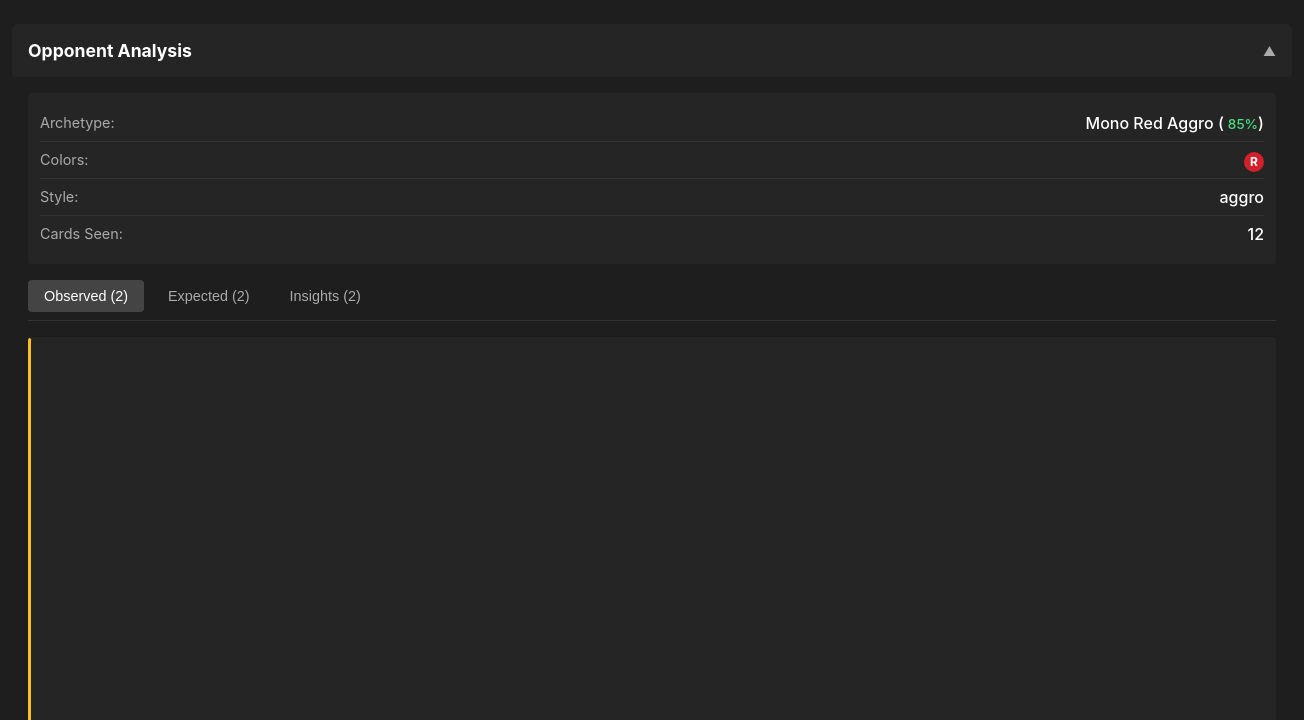
it: OpponentAnalysisPanel › switches to insights tab when clicked
Click the tab "Insights (2)" at (325, 296), box x1=274 y1=280 x2=377 y2=312
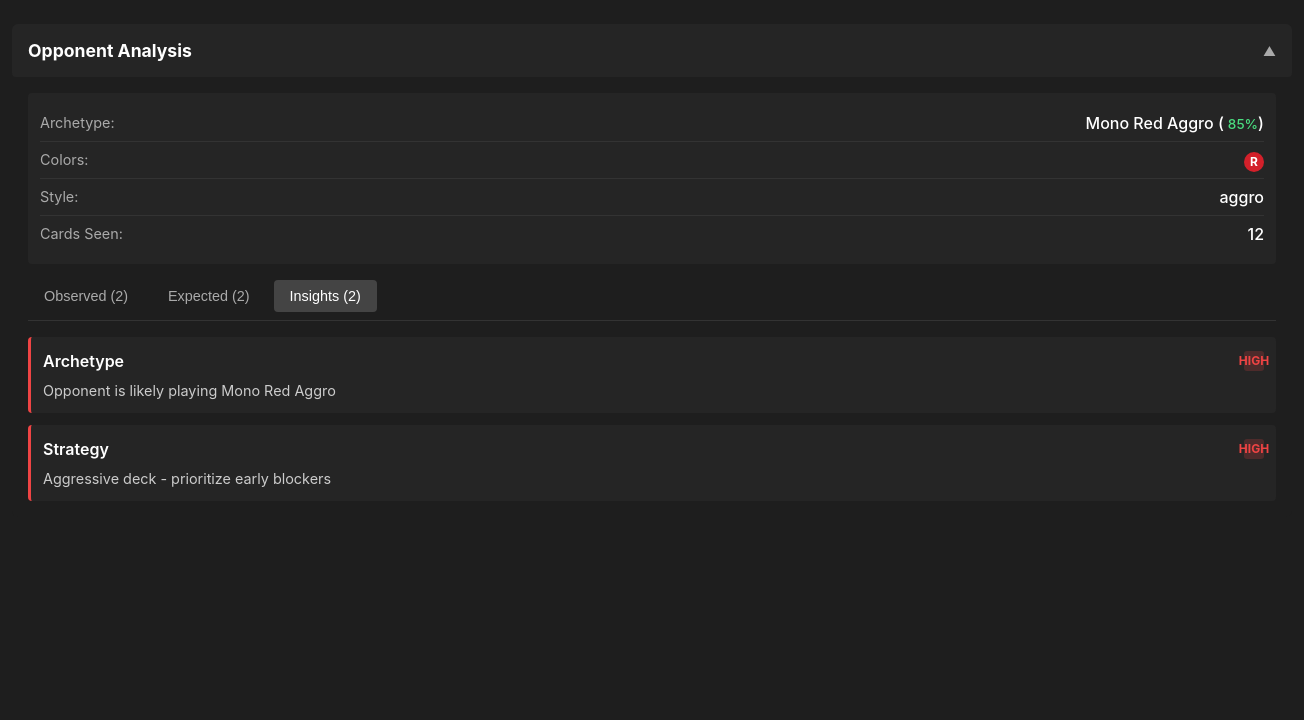
Expected: the text "Opponent is likely playing Mono Red Aggro" is shown, x1=43 y1=382 x2=336 y2=399
